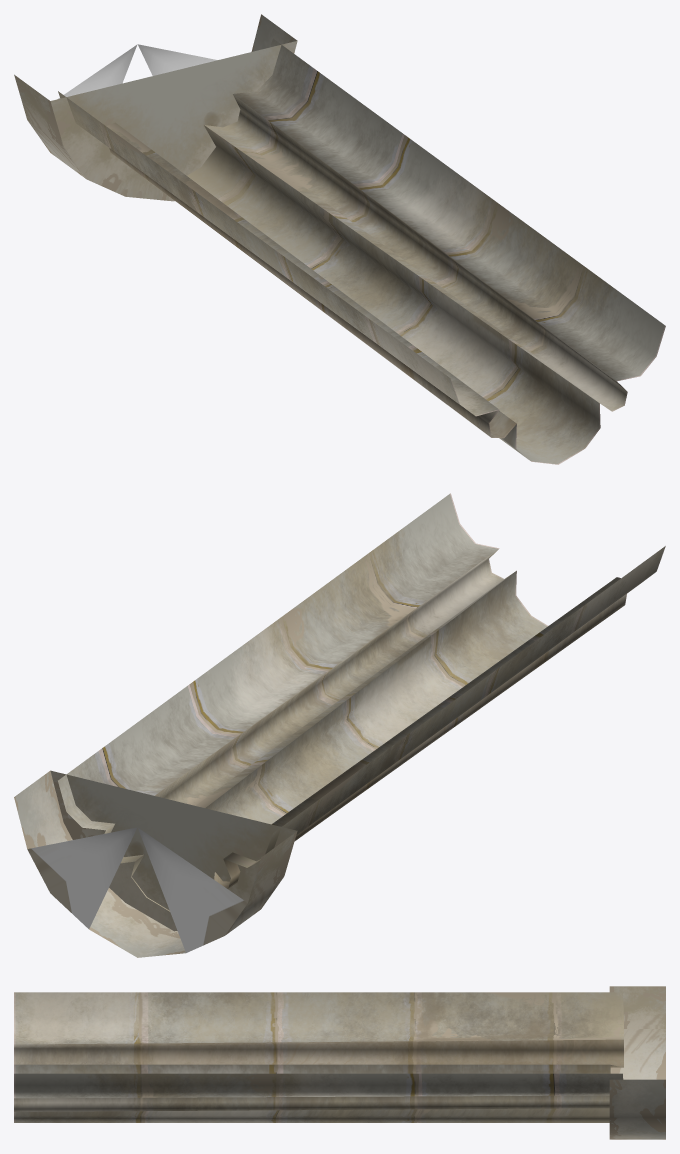
File: Cath_HalfColumn.fbx
3 renders of one model, top to bottom at view 1: azimuth 30°, elevation 25°; view 2: azimuth 150°, elevation 25°; view 3: azimuth 270°, elevation 25°, orthographic. The views are drawn at different scales.
Parts seen in each view (by area): view 1: Cath_HalfColumn; view 2: Cath_HalfColumn; view 3: Cath_HalfColumn.
Boxes of the visible parts, box(x1,y1,x2,y2) form: Cath_HalfColumn: box(14, 14, 665, 464); Cath_HalfColumn: box(14, 493, 665, 957); Cath_HalfColumn: box(14, 986, 665, 1139).
Bounding box in the file's own units: 138 × 69.78 × 408.
